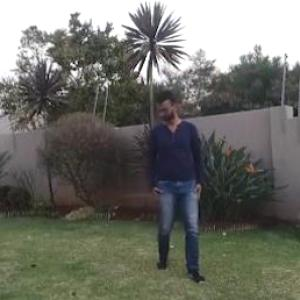follow: (148, 85, 210, 281)
